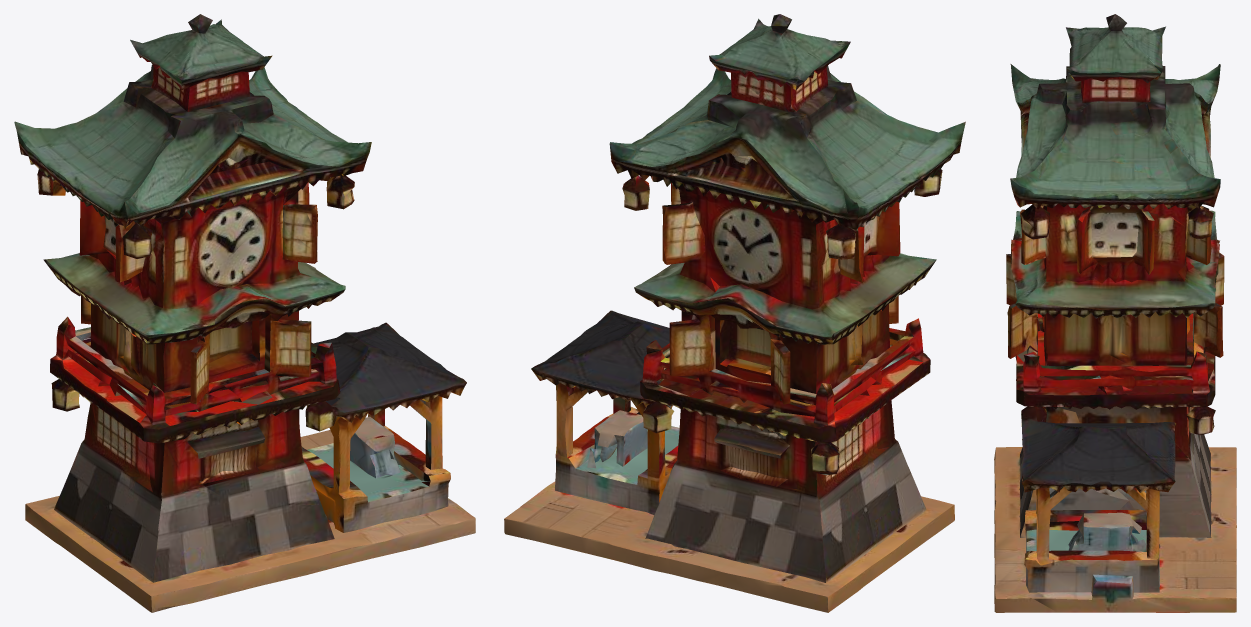
Rendered from botchan-karakuri-clock.glb.
3 renders of one model, left to right at view 1: azimuth 30°, elevation 25°; view 2: azimuth 150°, elevation 25°; view 3: azimuth 270°, elevation 25°, orthographic. The views are drawn at different scales.
Parts seen in each view (by area): view 1: logan-textured.obj; view 2: logan-textured.obj; view 3: logan-textured.obj.
Boxes of the visible parts, box(x1,y1,x2,y2) form: logan-textured.obj: box(14, 14, 475, 612); logan-textured.obj: box(504, 14, 965, 612); logan-textured.obj: box(994, 14, 1236, 612).
Bounding box in the file's own units: 0.6963 × 1 × 0.4396.
Materials: 1 (1 with a texture image).
